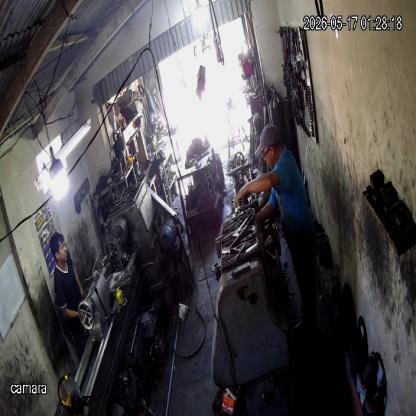lentes: (262, 145, 272, 160)
